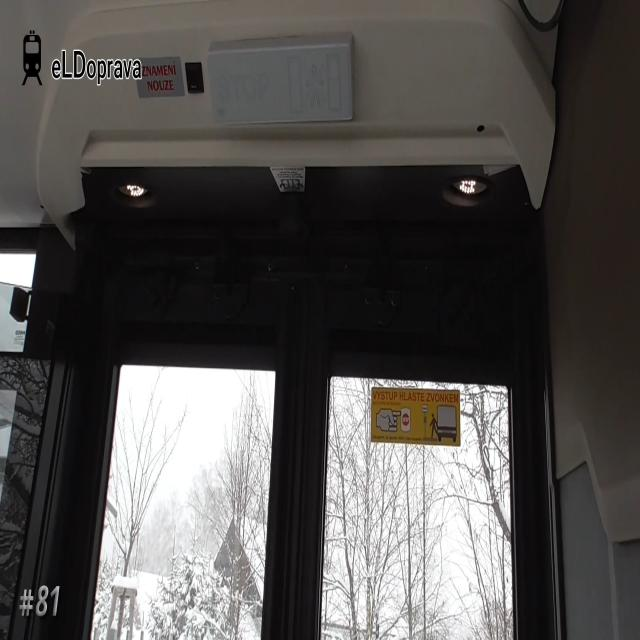bus-door: (84, 215, 541, 640)
